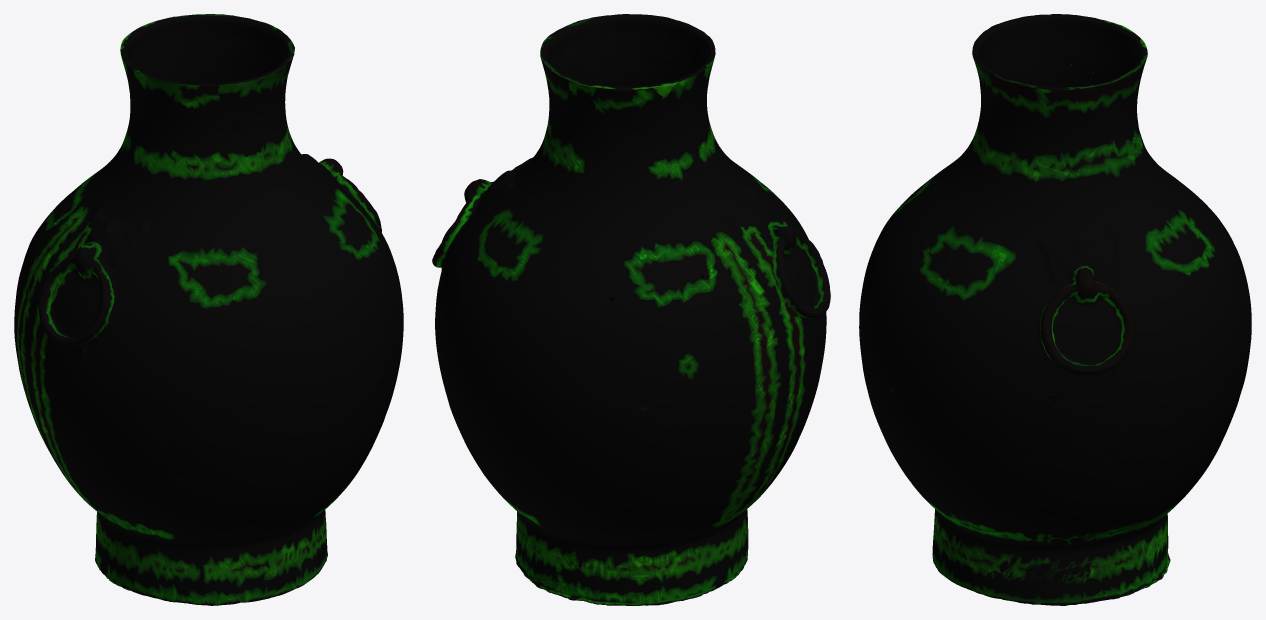
3 views of the same model, side by side, from view 1: azimuth 30°, elevation 25°; view 2: azimuth 150°, elevation 25°; view 3: azimuth 270°, elevation 25° (orthographic).
Parts seen in each view (by area): view 1: hu; view 2: hu; view 3: hu.
Boxes of the visible parts, x1,y1,x2,y2 form: hu: (14, 14, 403, 605); hu: (432, 14, 830, 605); hu: (859, 14, 1251, 605).
Size of the model in its own units: 0.3808 by 0.5281 by 0.368.
1 material, 1 textured.
